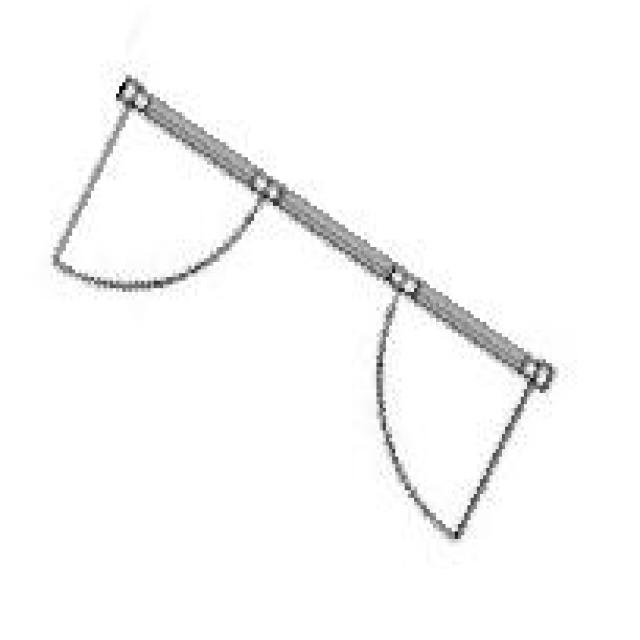door: (47, 71, 546, 539)
